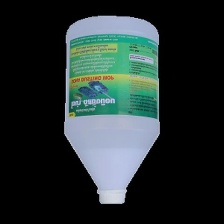cleaning_solution: (59, 11, 162, 208)
